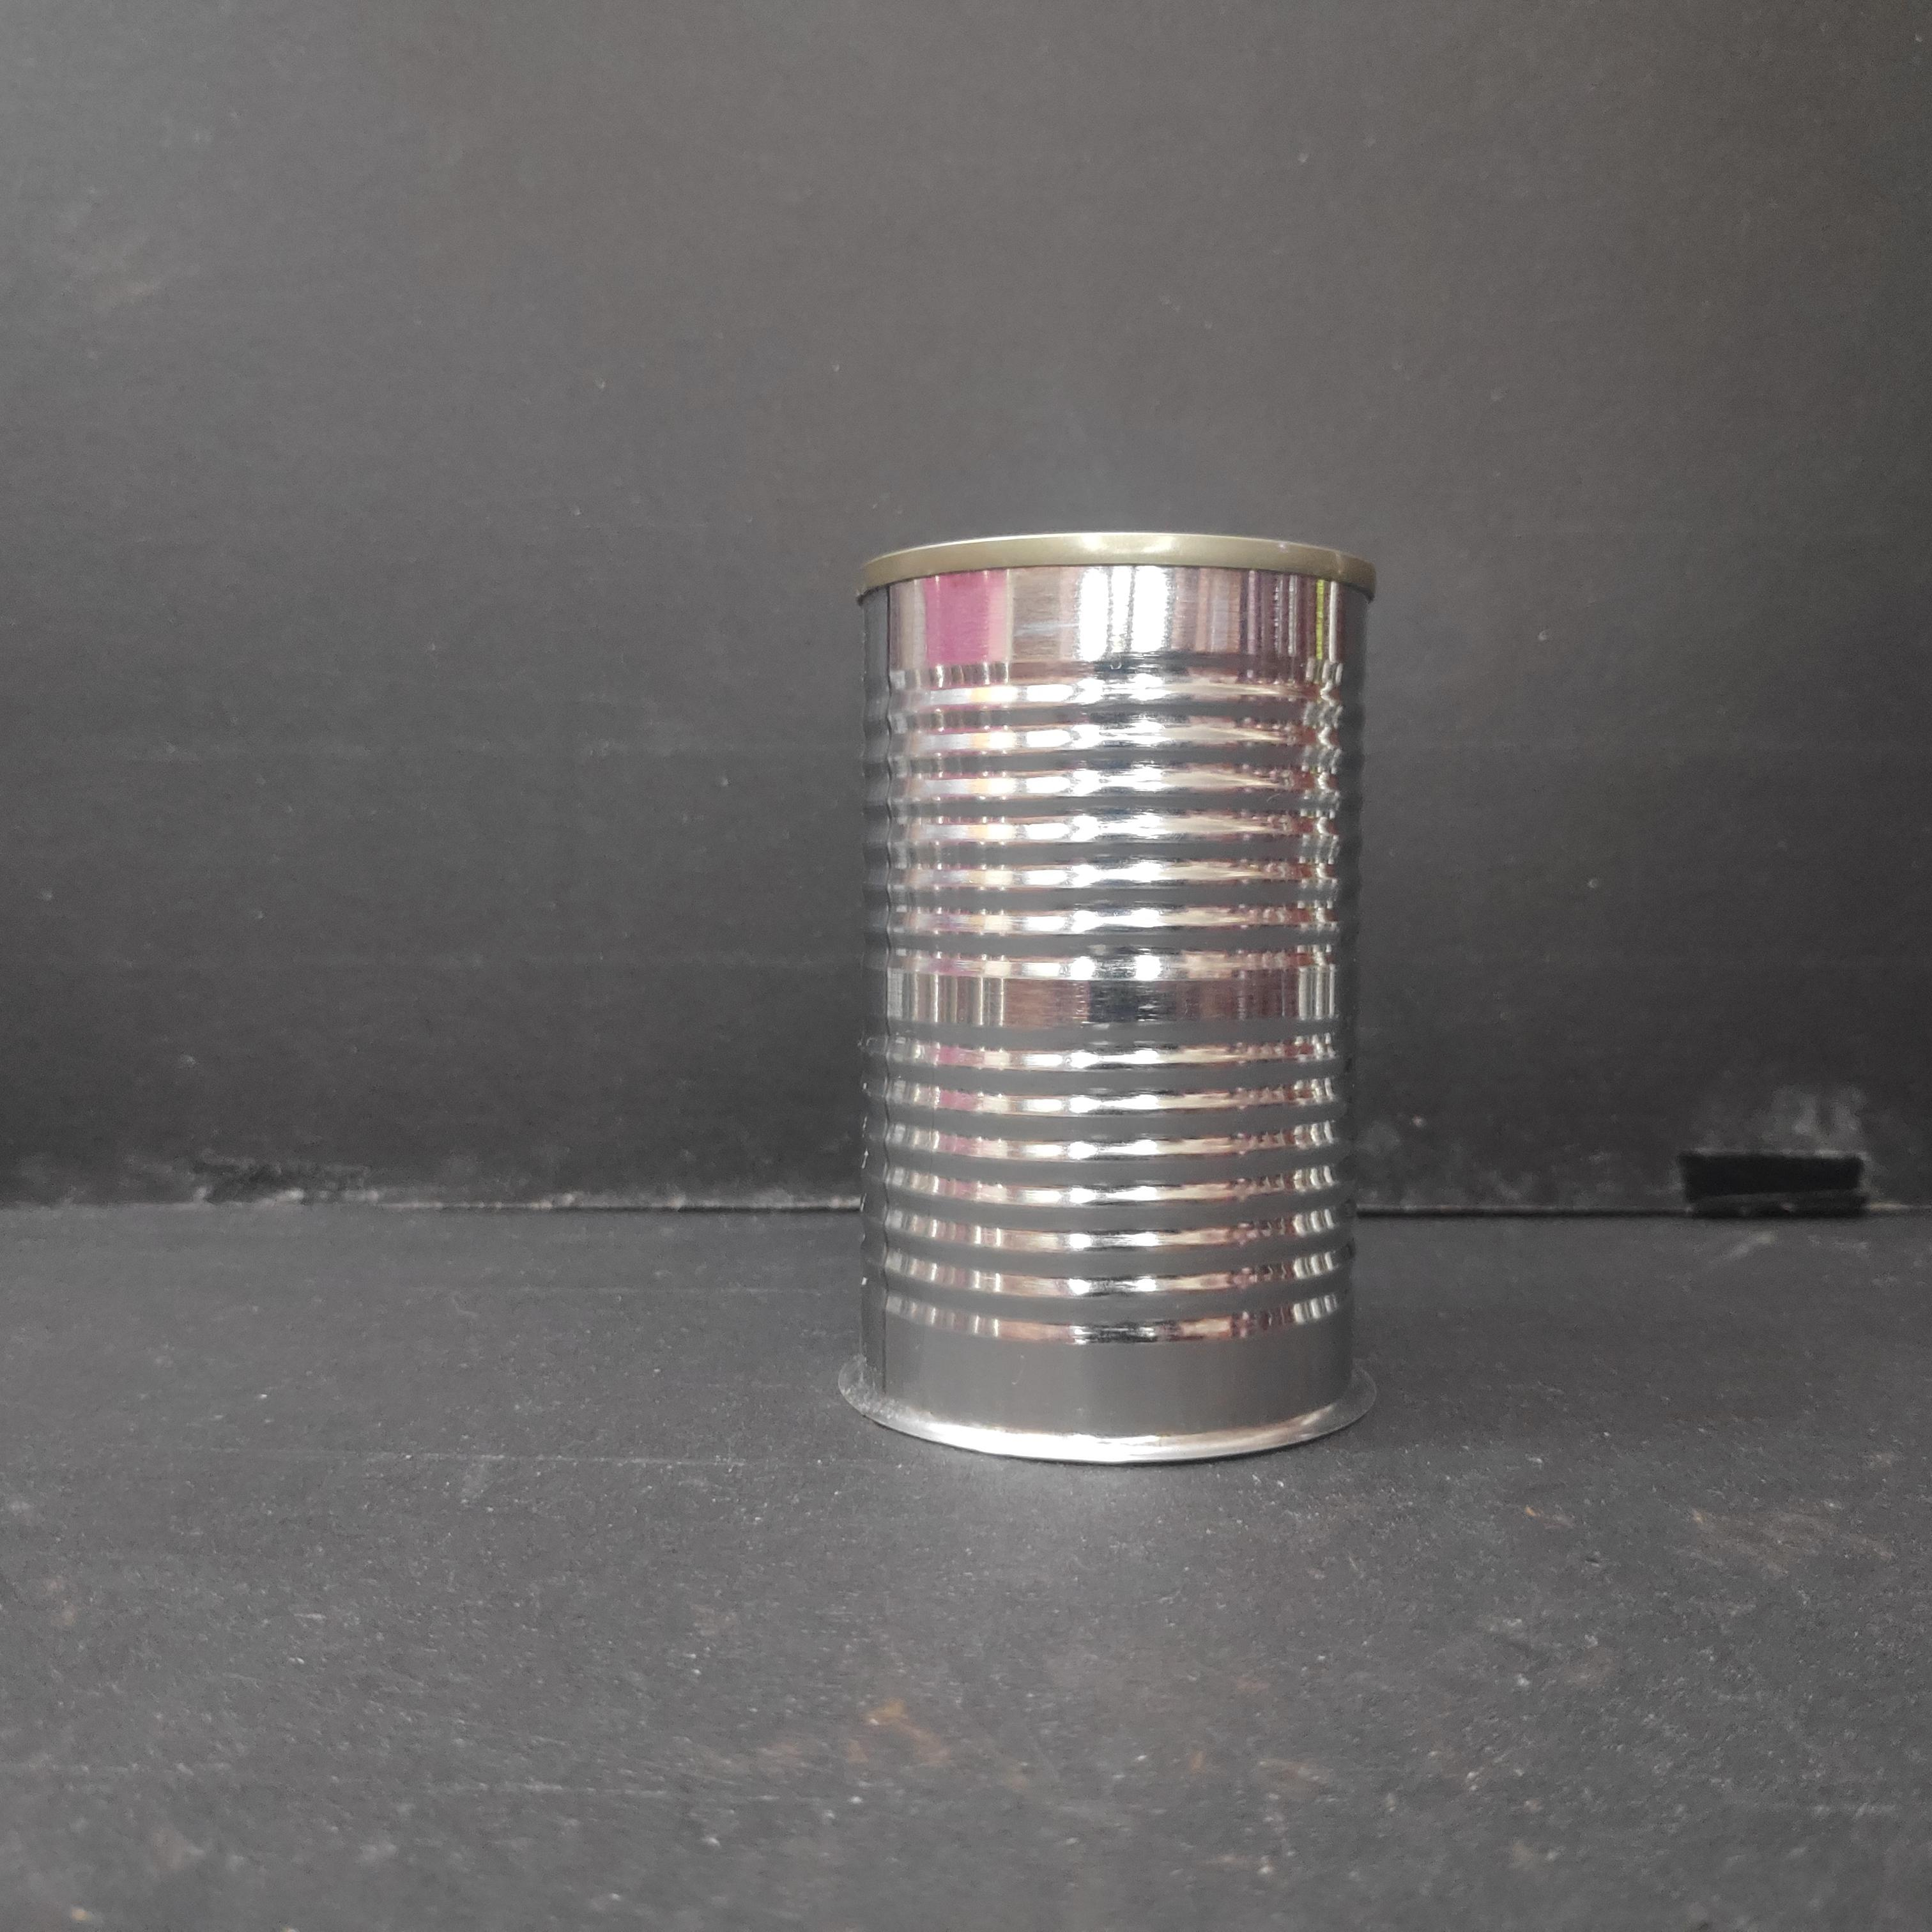No defect: (835, 529, 1382, 1465)
